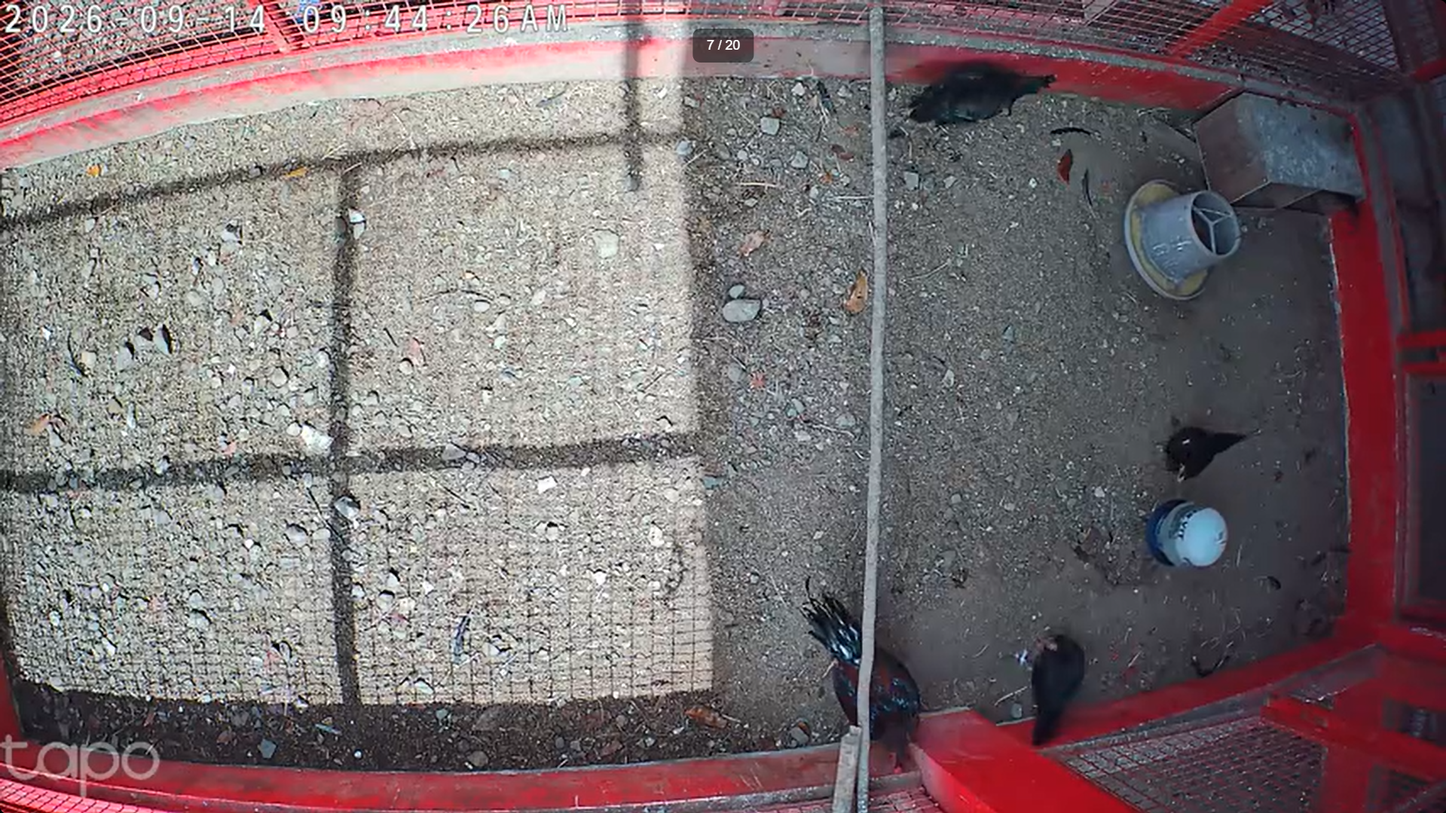Chicken: (1013, 634, 1088, 747)
Rooster: (797, 592, 924, 777)
